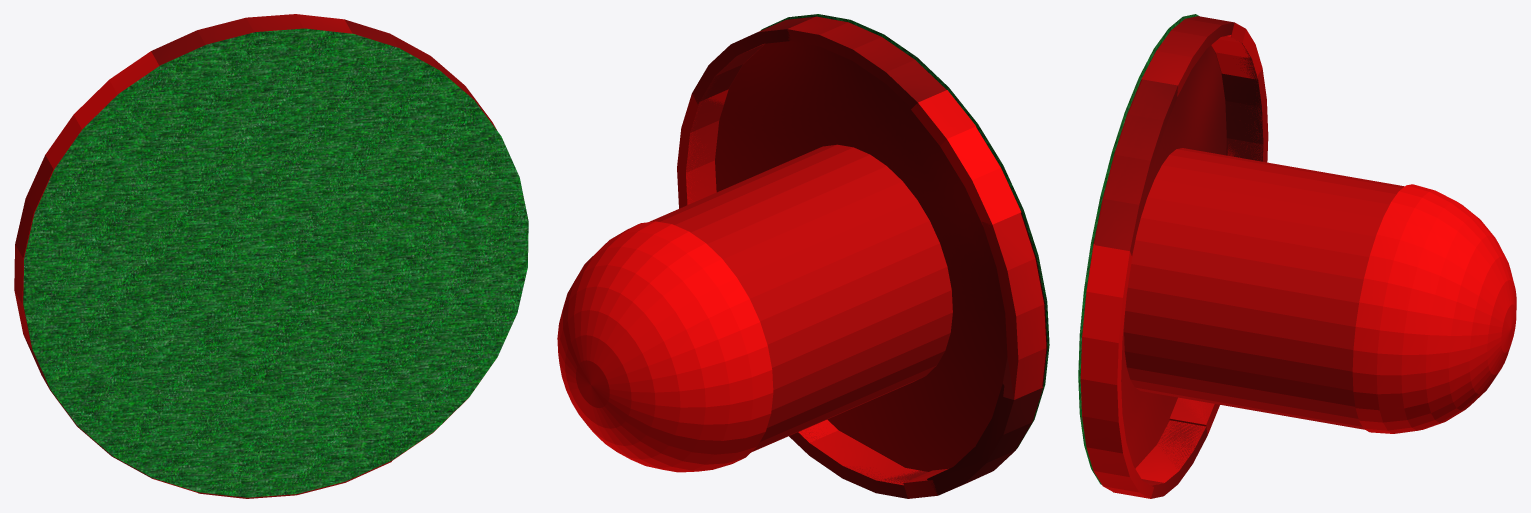
Rendered from maillet1.obj.
3 renders of one model, left to right at view 1: azimuth 30°, elevation 25°; view 2: azimuth 150°, elevation 25°; view 3: azimuth 270°, elevation 25°, orthographic. The views are drawn at different scales.
Visible parts, largest first — view 1: Cylinder; view 2: Cylinder; view 3: Cylinder.
Part boxes in pixels (x1=…): Cylinder: x1=14, y1=14, x2=528, y2=498; Cylinder: x1=557, y1=14, x2=1049, y2=498; Cylinder: x1=1078, y1=14, x2=1516, y2=498.
Size of the model in its own units: 5.27 by 5.28 by 4.78.
Materials: 2 (2 with a texture image).
